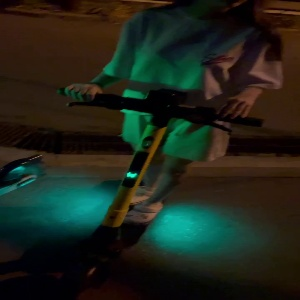human on a scooter: (53, 1, 284, 299)
